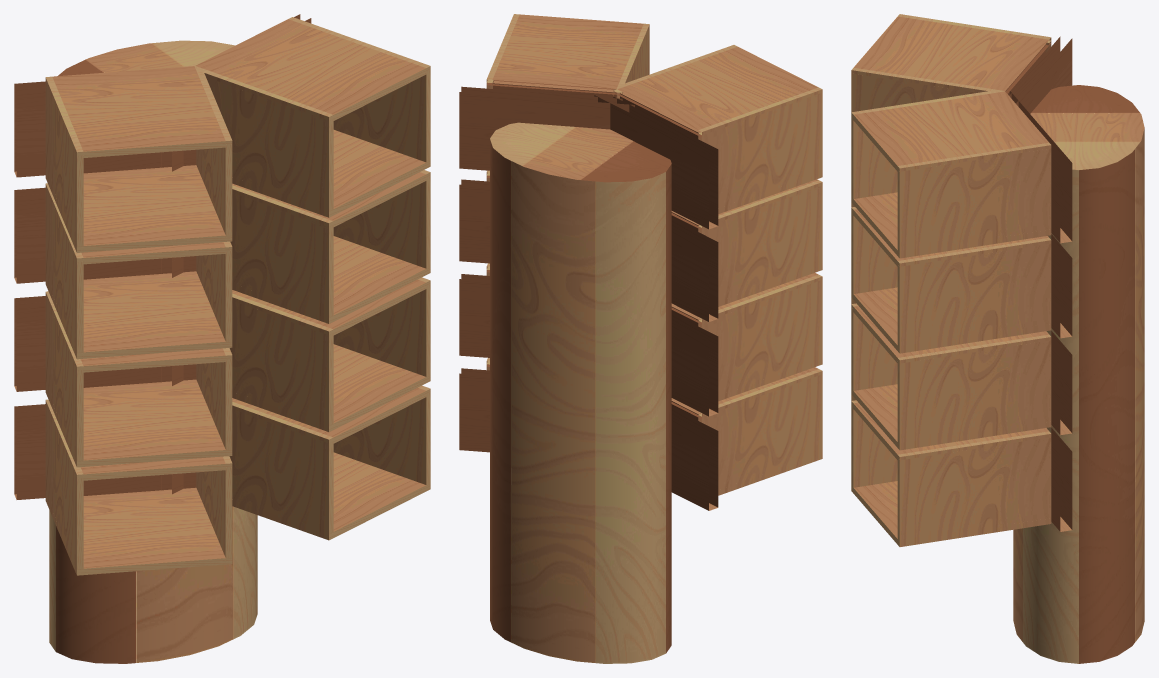
Rendered from layout_corner_2columns_20_angle.fbx.
3 renders of one model, left to right at view 1: azimuth 30°, elevation 25°; view 2: azimuth 150°, elevation 25°; view 3: azimuth 270°, elevation 25°, orthographic. The views are drawn at different scales.
Visible parts, largest first — view 1: Cylinder, Shelf-TM-00 7, Shelf-TM-00 3, Shelf-BM-00 4, Shelf-BM-00 5, Shelf-BM-00 6, Shelf-BM-00 7, Shelf-CL-01 3, Shelf-CL-01 1, Shelf-CL-01, Shelf-CL-01 2, Shelf-CR-01 3 (+39 smaller); view 2: Cylinder, Shelf-TM-00 3, Shelf-TM-00 7, Shelf-CL-01 7, Shelf-CL-01 4, Shelf-CL-01 6, Shelf-CL-01 5, Shelf-Back-00 (1) 3, Shelf-Back-00 (1) 7, Shelf-Back-00 (1) 4, Shelf-Back-00 (1) 5, Shelf-Back-00 (1) 6 (+14 smaller); view 3: Cylinder, Shelf-CR-01 1, Shelf-CR-01 2, Shelf-CR-01 3, Shelf-CR-01, Shelf-TM-00 3, Shelf-TM-00 7, Shelf-CR-01 7, Shelf-CL-01, Shelf-CL-01 2, Shelf-CL-01 1, Shelf-CL-01 3 (+23 smaller).
Boxes of the visible parts, x1,y1,x2,y2 form: Cylinder: [49, 40, 257, 663]; Shelf-TM-00 7: [52, 66, 225, 157]; Shelf-TM-00 3: [195, 19, 426, 120]; Shelf-BM-00 4: [83, 379, 225, 466]; Shelf-BM-00 5: [83, 271, 225, 358]; Shelf-BM-00 6: [83, 487, 225, 574]; Shelf-BM-00 7: [83, 165, 225, 252]; Shelf-CL-01 3: [206, 77, 333, 211]; Shelf-CL-01 1: [229, 301, 333, 425]; Shelf-CL-01: [229, 409, 333, 533]; Shelf-CL-01 2: [230, 193, 333, 317]; Shelf-CR-01 3: [333, 70, 430, 162]; Cylinder: [490, 122, 671, 663]; Shelf-TM-00 3: [492, 14, 643, 94]; Shelf-TM-00 7: [617, 46, 818, 135]; Shelf-CL-01 7: [698, 92, 822, 208]; Shelf-CL-01 4: [698, 280, 822, 395]; Shelf-CL-01 6: [698, 374, 822, 489]; Shelf-CL-01 5: [698, 185, 822, 301]; Shelf-Back-00 (1) 3: [459, 86, 634, 170]; Shelf-Back-00 (1) 7: [594, 95, 718, 229]; Shelf-Back-00 (1) 4: [671, 313, 718, 416]; Shelf-Back-00 (1) 5: [671, 219, 718, 321]; Shelf-Back-00 (1) 6: [671, 408, 718, 510]; Cylinder: [1013, 85, 1144, 663]; Shelf-CR-01 1: [897, 340, 1051, 444]; Shelf-CR-01 2: [897, 243, 1051, 347]; Shelf-CR-01 3: [897, 148, 1051, 252]; Shelf-CR-01: [897, 437, 1051, 541]; Shelf-TM-00 3: [853, 91, 1048, 171]; Shelf-TM-00 7: [854, 16, 1048, 93]; Shelf-CR-01 7: [851, 73, 977, 112]; Shelf-CL-01: [851, 404, 897, 487]; Shelf-CL-01 2: [851, 211, 897, 293]; Shelf-CL-01 1: [851, 308, 897, 390]; Shelf-CL-01 3: [851, 116, 897, 198].
Size of the model in its own units: 181 by 290 by 145.
